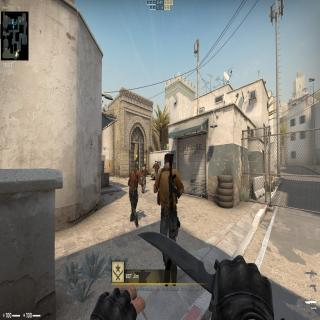T-Head: (164, 154, 172, 164), (134, 160, 140, 170), (144, 163, 146, 167), (155, 160, 157, 163)
